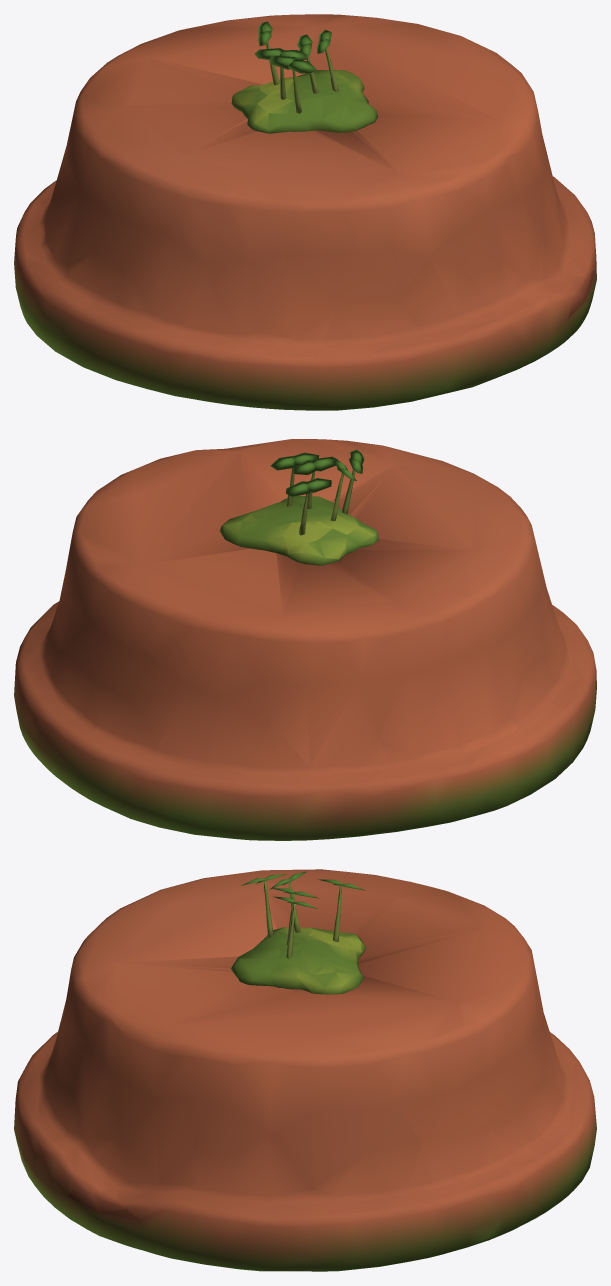
Rendered from mire_flowerpot_lod2.glb.
3 views of the same model, one above another, from view 1: azimuth 30°, elevation 25°; view 2: azimuth 150°, elevation 25°; view 3: azimuth 270°, elevation 25° (orthographic).
Parts seen in each view (by area): view 1: mire_flowerpot.001; view 2: mire_flowerpot.001; view 3: mire_flowerpot.001.
Boxes of the visible parts, x1,y1,x2,y2 form: mire_flowerpot.001: (14, 14, 596, 410); mire_flowerpot.001: (14, 439, 596, 840); mire_flowerpot.001: (14, 869, 596, 1271).
Size of the model in its own units: 21.37 by 10.46 by 21.08.
